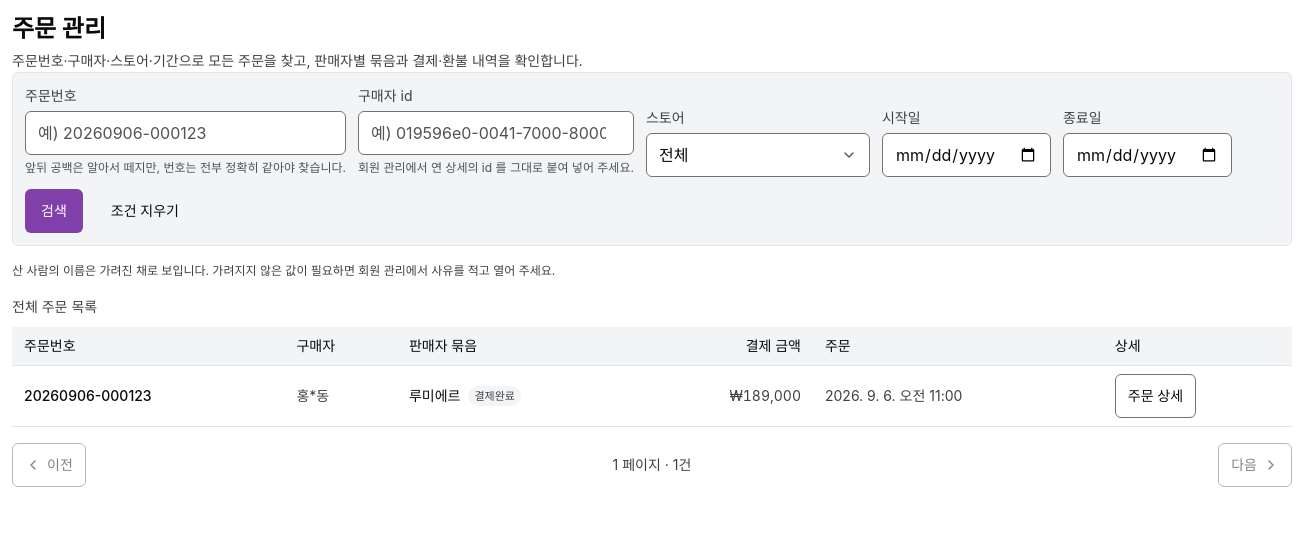
Test case: 주문 검색 (F4) › refuses to send a period whose start is after its end
Expected: the table "전체 주문 목록" is shown, [12,296,1292,427]
Type "2026-09-07" into the date field labelled "시작일" at (966, 155), box [882,133,1051,177]
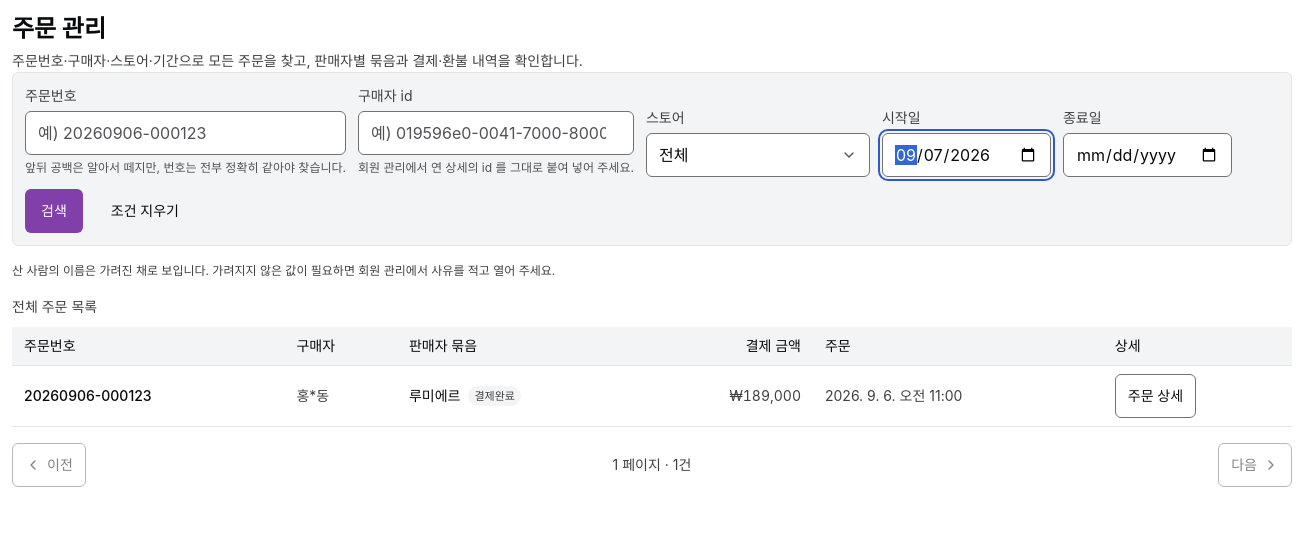
Type "2026-09-01" into the date field labelled "종료일" at (1147, 155), box [1063,133,1232,177]
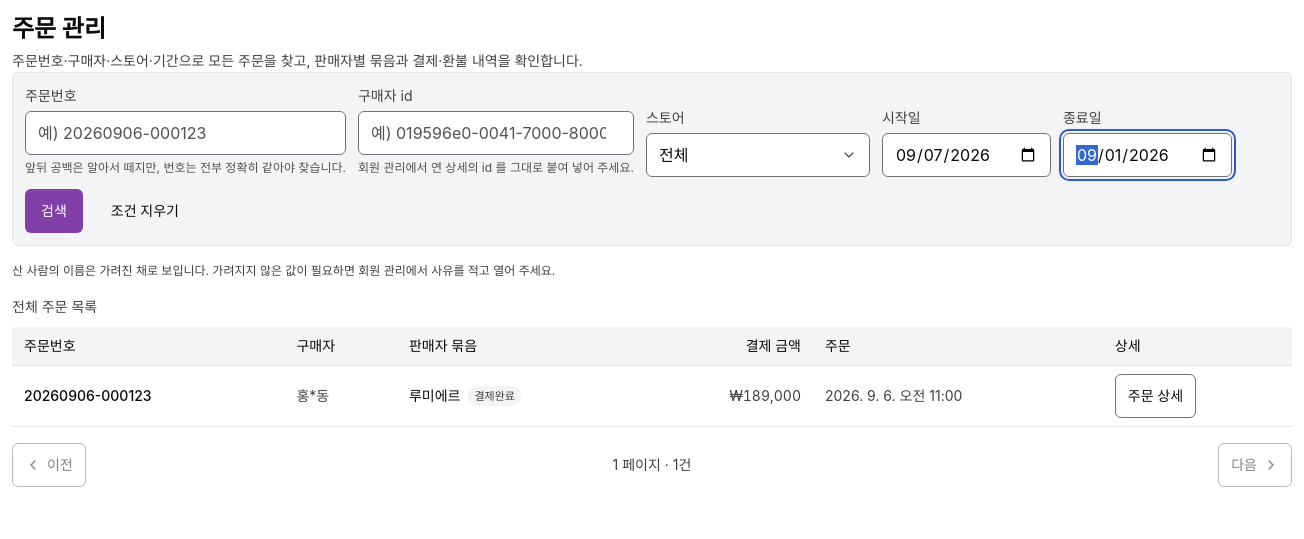
Click the button "검색" at (54, 211), box [25,189,83,233]
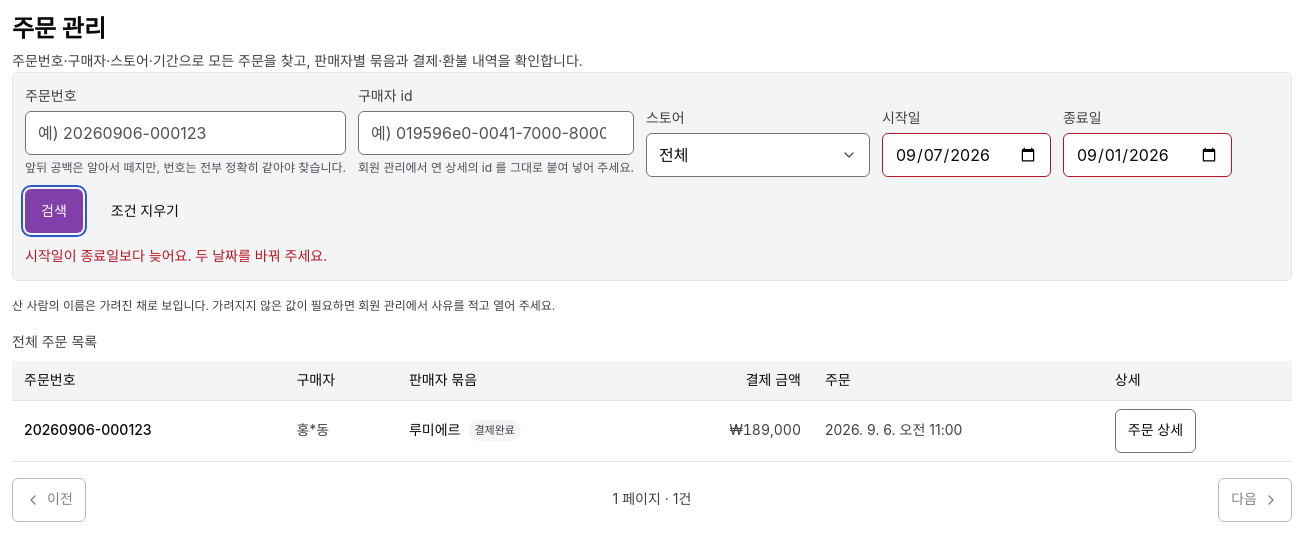
Now the list item "시작일이 종료일보다 늦어요. 두 날짜를 바꿔 주세요." is shown, box [25,247,327,264]
